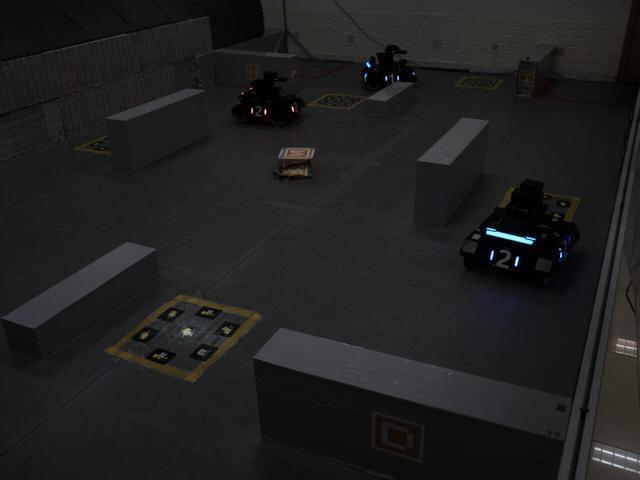armor: (485, 243, 524, 277), (550, 232, 573, 264), (247, 102, 270, 122), (287, 98, 301, 117), (382, 72, 402, 85)
